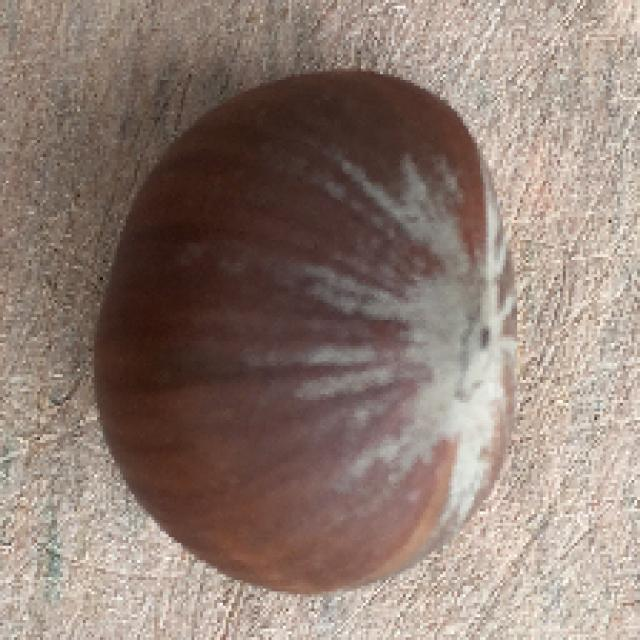DamagedHazelnut: (92, 68, 523, 588)
